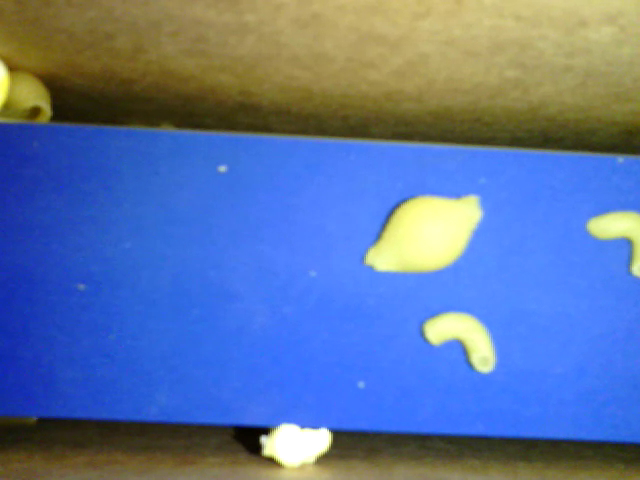elbow: (423, 308, 498, 374), (588, 208, 639, 278)
shell: (361, 194, 487, 275), (2, 74, 53, 124)
